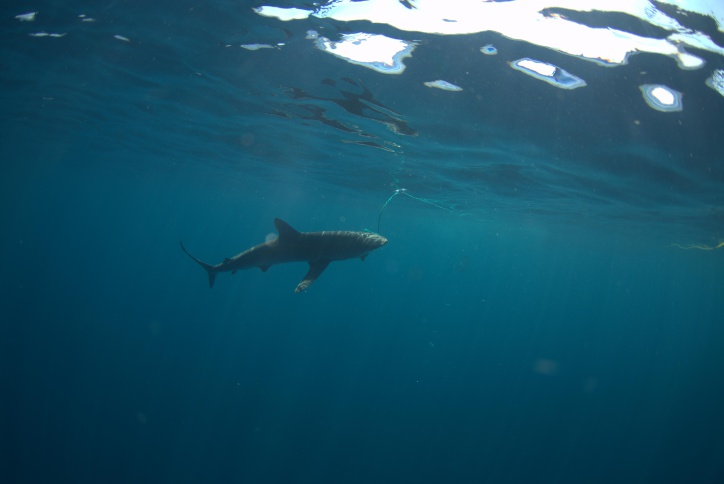Sedoso: (159, 213, 396, 308)
